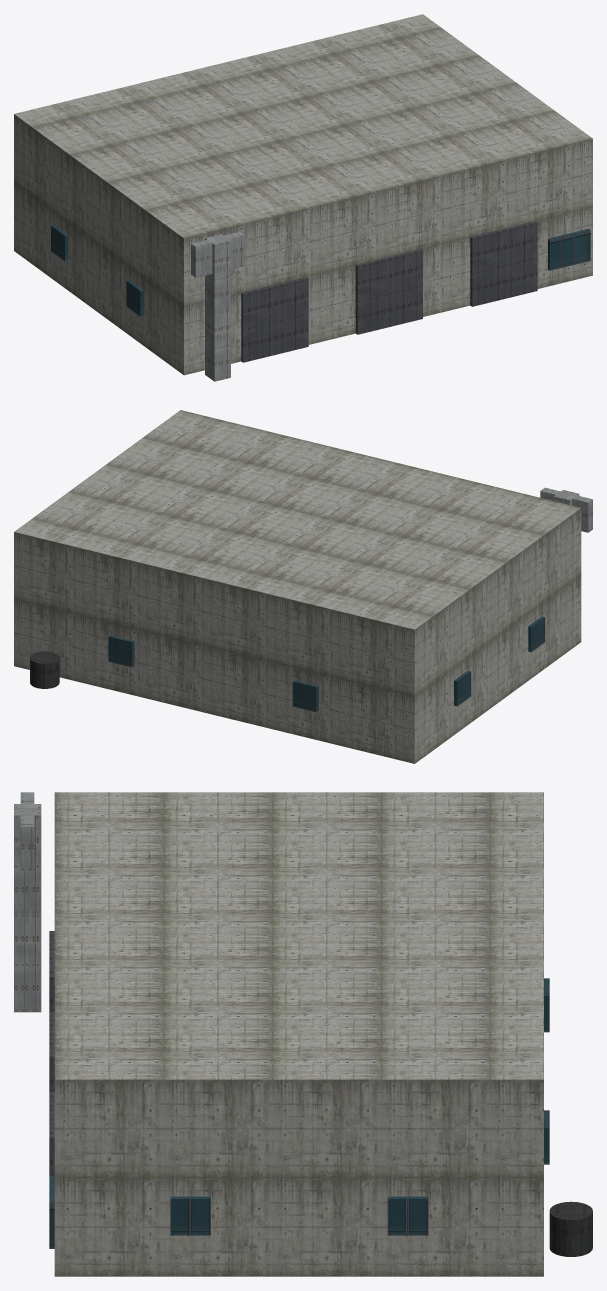
Rendered from auto-repair-shop_lod0.gltf.
3 views of the same model, one above another, from view 1: azimuth 30°, elevation 25°; view 2: azimuth 150°, elevation 25°; view 3: azimuth 270°, elevation 25° (orthographic). The views are drawn at different scales.
Parts seen in each view (by area): view 1: auto-repair-shop_main, auto-repair-shop__bay_door_c, auto-repair-shop__bay_door_a, auto-repair-shop__bay_door_b, auto-repair-shop__pylon, auto-repair-shop_fen_07-glass-curtain-blue_0, auto-repair-shop__pylon_cabinet; view 2: auto-repair-shop_main, auto-repair-shop_fen_07-glass-curtain-blue_0, auto-repair-shop__tire_stacks, auto-repair-shop__pylon_cabinet; view 3: auto-repair-shop_main, auto-repair-shop__pylon, auto-repair-shop_fen_07-glass-curtain-blue_0, auto-repair-shop__tire_stacks, auto-repair-shop__pylon_cabinet.
Part boxes in pixels (box(x1,y1,x2,y2)): auto-repair-shop_main: box(14, 14, 592, 375); auto-repair-shop__bay_door_c: box(470, 221, 537, 306); auto-repair-shop__bay_door_a: box(241, 277, 308, 362); auto-repair-shop__bay_door_b: box(355, 249, 422, 334); auto-repair-shop__pylon: box(205, 234, 230, 381); auto-repair-shop_fen_07-glass-curtain-blue_0: box(51, 225, 590, 316); auto-repair-shop__pylon_cabinet: box(191, 231, 244, 277); auto-repair-shop_main: box(14, 410, 581, 763); auto-repair-shop_fen_07-glass-curtain-blue_0: box(108, 616, 545, 712); auto-repair-shop__tire_stacks: box(30, 651, 59, 688); auto-repair-shop__pylon_cabinet: box(540, 487, 592, 532); auto-repair-shop_main: box(54, 792, 543, 1276); auto-repair-shop__pylon: box(14, 804, 41, 1012); auto-repair-shop_fen_07-glass-curtain-blue_0: box(49, 978, 549, 1248); auto-repair-shop__tire_stacks: box(549, 1201, 592, 1256); auto-repair-shop__pylon_cabinet: box(20, 792, 34, 870).
Bounding box in the file's own units: 25.4 × 8 × 21.3.
